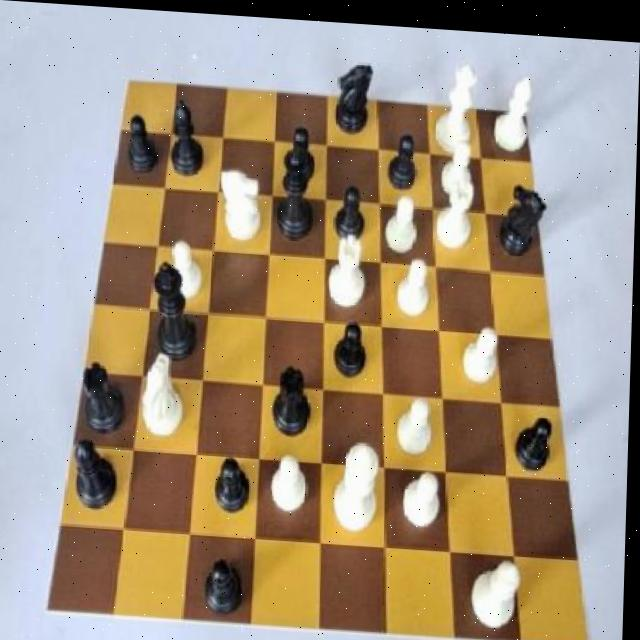bishop: (70, 424, 124, 512), (165, 92, 214, 180)
black-bishop: (148, 256, 199, 367)
black-king: (497, 171, 552, 260), (328, 49, 378, 143)
black-knight: (198, 540, 257, 621), (327, 305, 376, 382), (384, 116, 427, 197), (275, 110, 321, 185), (511, 401, 558, 471), (120, 105, 161, 184), (217, 447, 257, 522), (330, 178, 376, 241)
black-pawn: (270, 137, 322, 246)
black-queen: (262, 354, 318, 443), (80, 355, 133, 439)
black-rook: (461, 545, 528, 640), (486, 61, 536, 156)
white-bishop: (331, 421, 389, 540)
white-king: (134, 344, 188, 448), (211, 161, 269, 248)
white-knight: (387, 384, 442, 459), (392, 241, 438, 325), (456, 309, 504, 388), (266, 444, 313, 519), (381, 180, 428, 255), (401, 457, 448, 531), (165, 233, 210, 307), (438, 123, 484, 192)
white-pawn: (432, 51, 484, 152)
white-queen: (321, 223, 372, 312), (436, 163, 480, 251)
